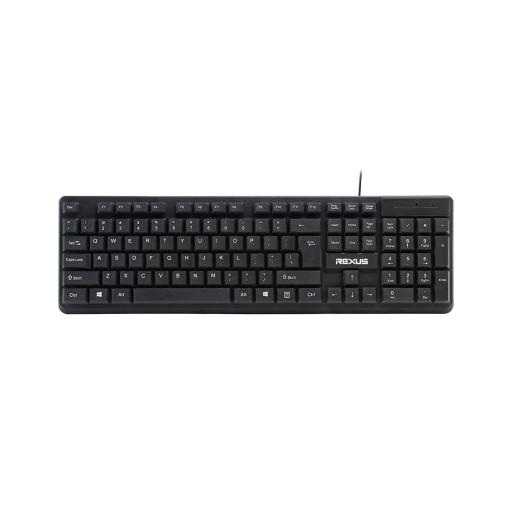KEYBOARD-2: (53, 191, 457, 320)
